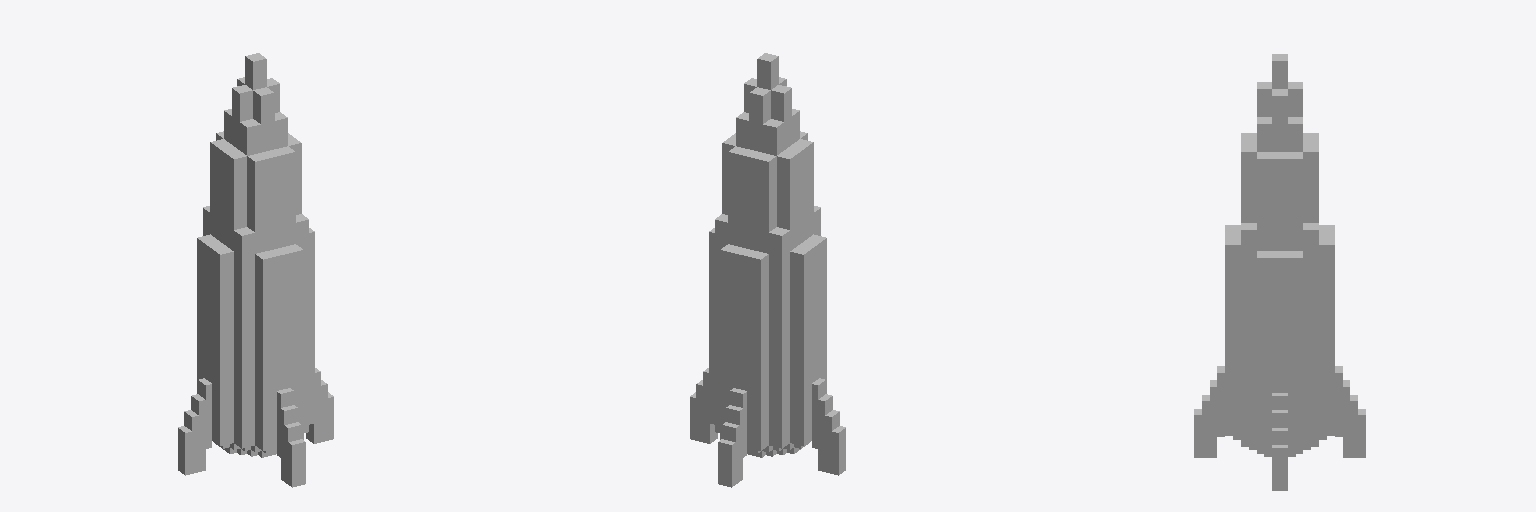
File: Rocket.obj
3 views of the same model, side by side, from view 1: azimuth 30°, elevation 25°; view 2: azimuth 150°, elevation 25°; view 3: azimuth 270°, elevation 25° (orthographic).
Parts seen in each view (by area): view 1: object 1; view 2: object 1; view 3: object 1.
Part boxes in pixels (x1,y1,x2,y2): object 1: (178,53,333,487); object 1: (690,53,845,487); object 1: (1194,54,1365,490).
Size of the model in its own units: 2.2 by 5.6 by 2.2.